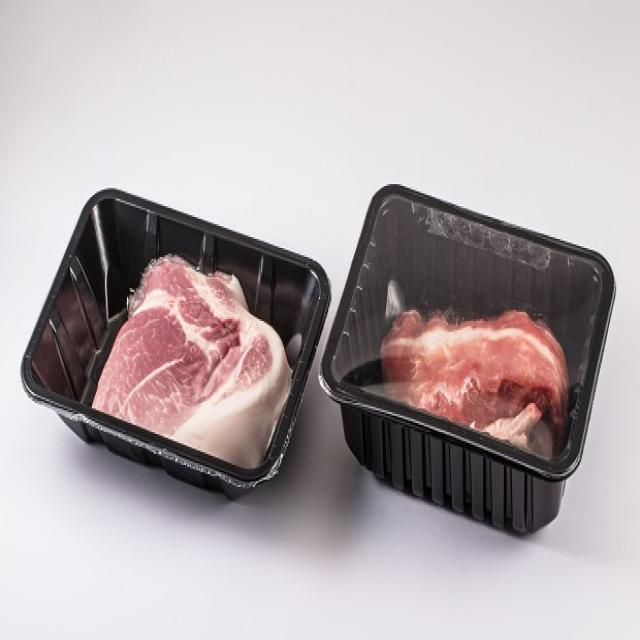pork: (54, 191, 333, 524), (358, 203, 595, 503)
